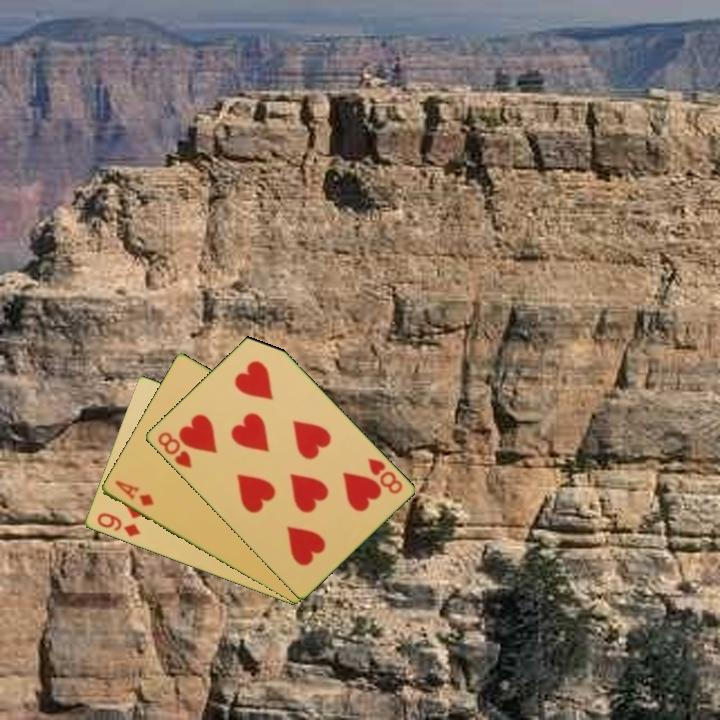8h: (363, 454, 405, 497), (154, 428, 195, 471)
9d: (93, 509, 143, 540)
Ad: (111, 477, 157, 509)
